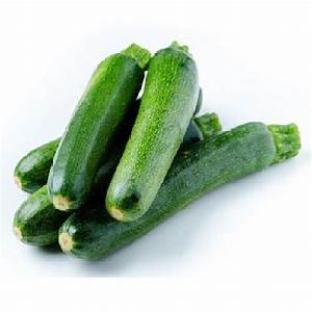Zucchini: (59, 123, 300, 258), (48, 45, 149, 211), (106, 43, 198, 221), (14, 187, 69, 245), (14, 139, 60, 193), (194, 89, 202, 115)
